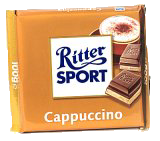grozi_116: (5, 5, 150, 133)
